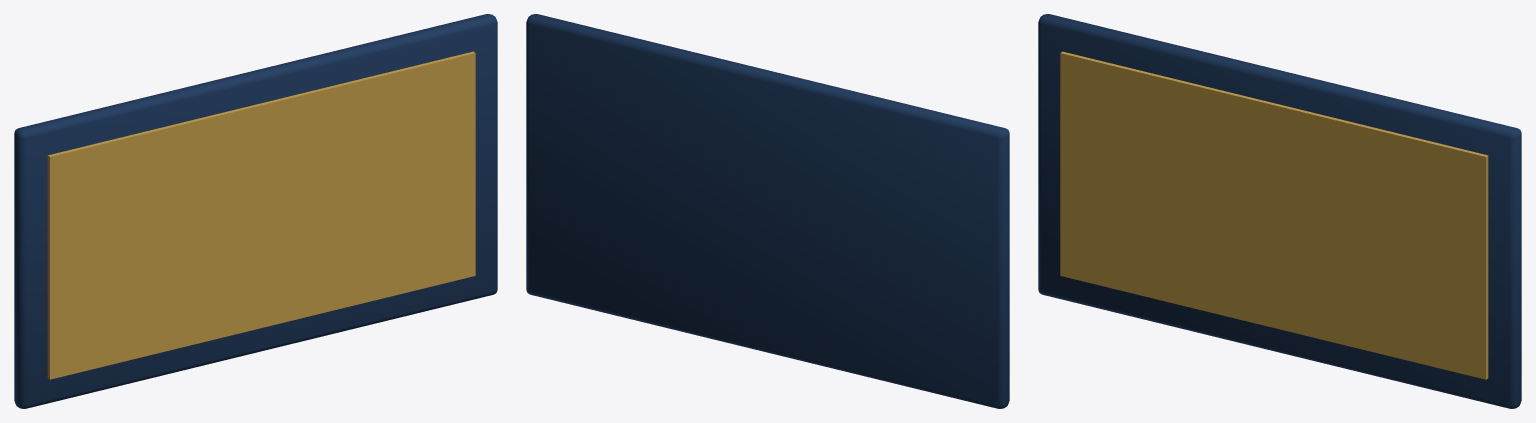
File: sign_compliance.gltf
3 views of the same model, side by side, from view 1: azimuth 30°, elevation 25°; view 2: azimuth 150°, elevation 25°; view 3: azimuth 330°, elevation 25° (orthographic).
Visible parts, largest first — view 1: sign_compliance_mesh; view 2: sign_compliance_mesh; view 3: sign_compliance_mesh.
Part boxes in pixels (box(x1,y1,x2,y2)): sign_compliance_mesh: box(14, 14, 497, 408); sign_compliance_mesh: box(526, 14, 1009, 408); sign_compliance_mesh: box(1038, 14, 1521, 408).
Size of the model in its own units: 0.9 by 0.5 by 0.037.
